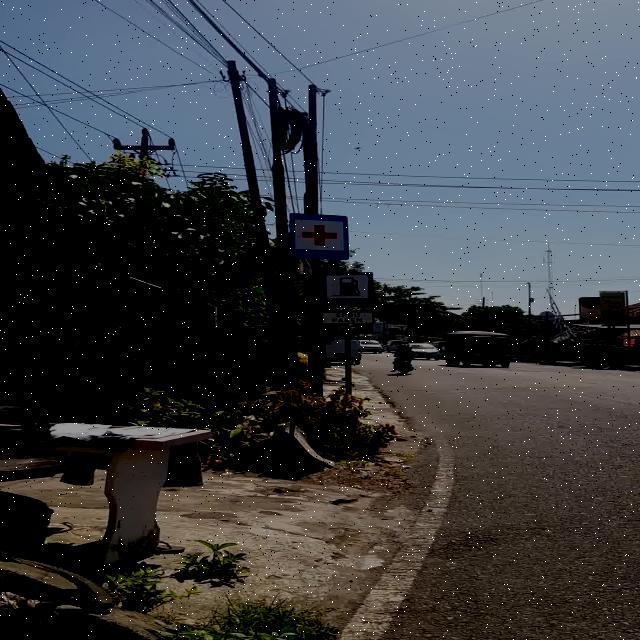Balai Pertolongan Pertama: (289, 213, 349, 259)
Pom Bensin: (321, 272, 374, 307)
